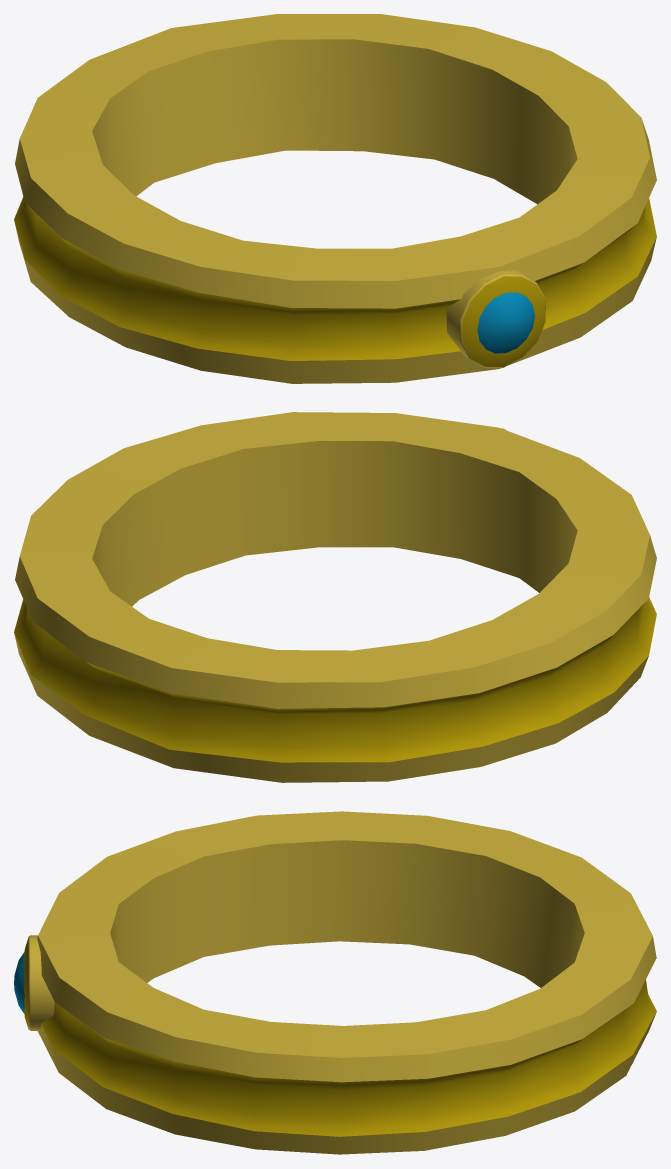
File: Head_Ring.fbx
3 views of the same model, one above another, from view 1: azimuth 30°, elevation 25°; view 2: azimuth 150°, elevation 25°; view 3: azimuth 270°, elevation 25° (orthographic). The views are drawn at different scales.
Visible parts, largest first — view 1: Head_Ring; view 2: Head_Ring; view 3: Head_Ring.
Part boxes in pixels (<box>): Head_Ring: <box>14,14,656,383</box>; Head_Ring: <box>14,412,656,782</box>; Head_Ring: <box>14,811,656,1154</box>.
Bounding box in the file's own units: 46.44 × 8.52 × 49.85.
